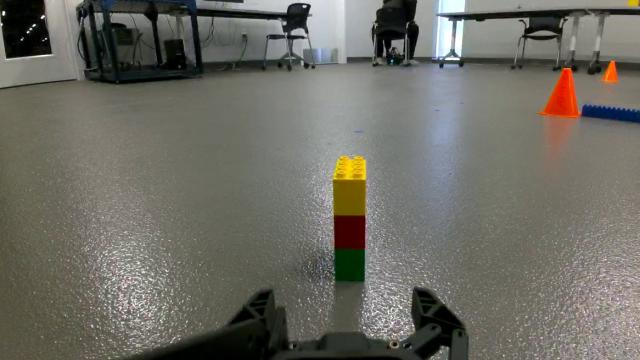lego: (307, 140, 389, 291)
